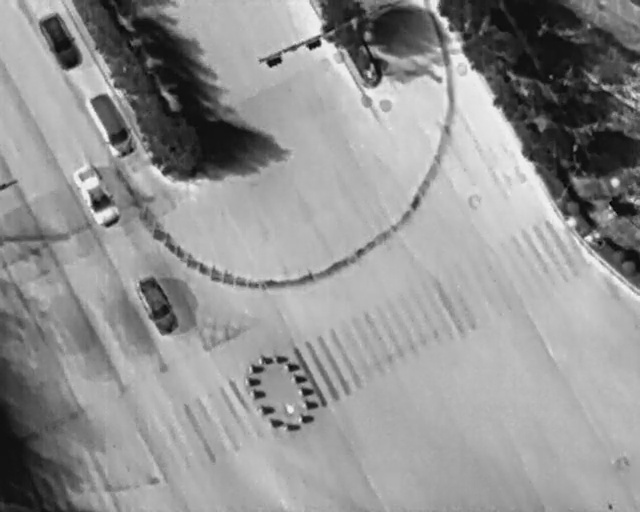Car: (66, 158, 126, 232), (84, 87, 140, 162), (32, 9, 88, 76), (131, 271, 182, 338)
